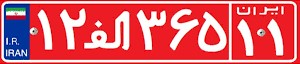character: (86, 6, 134, 58), (133, 6, 168, 58), (168, 5, 200, 59), (198, 5, 229, 58), (56, 6, 88, 57), (33, 6, 56, 56), (264, 17, 290, 60), (234, 17, 258, 59)
